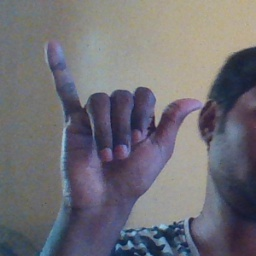J: (44, 40, 204, 207)
